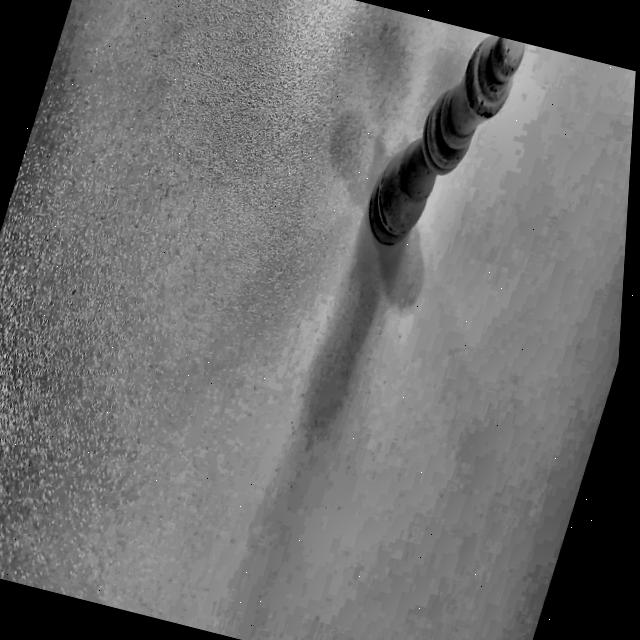white-queen: (331, 13, 546, 298)
